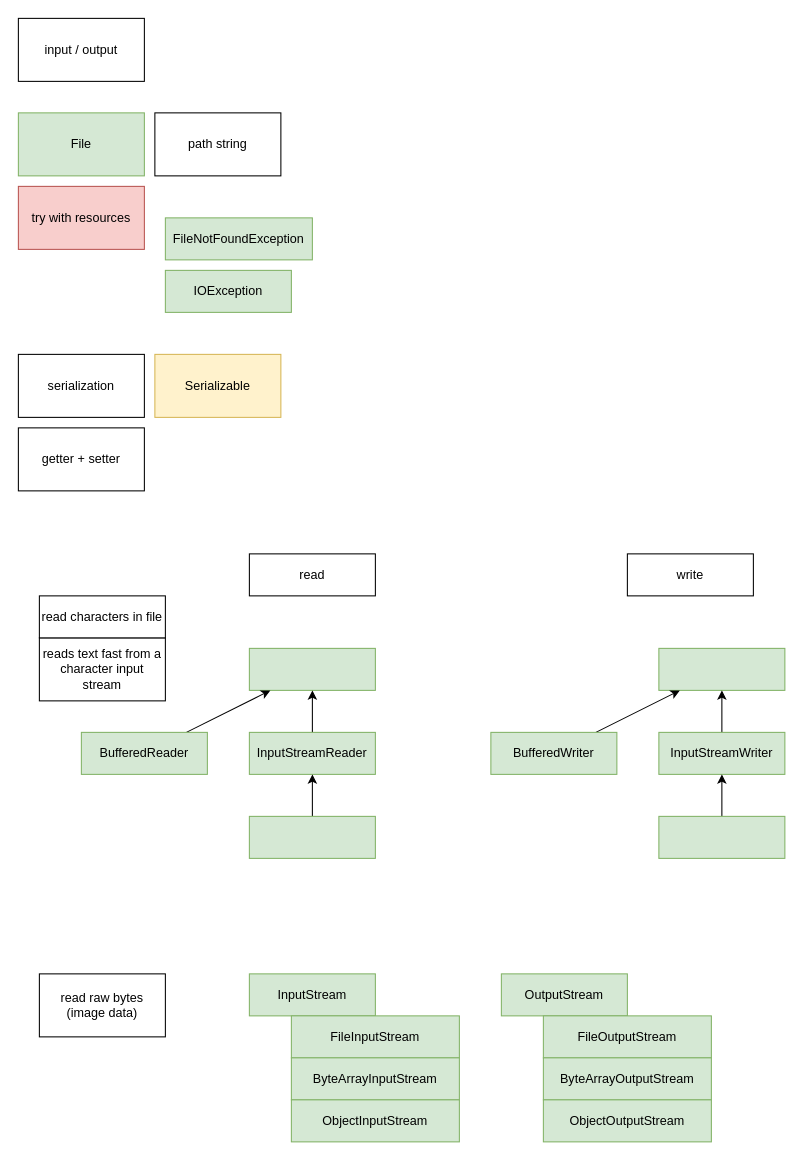
This 803x1160 diagram has some shape labels left out. The shapes that lost their labels are listed below. From the top down, each one's centre as x and y in pixels, then its label:
At point (311, 668): "Reader".
At point (721, 668): "Writer".
At point (311, 836): "FileReader".
At point (721, 836): "FileWriter".
